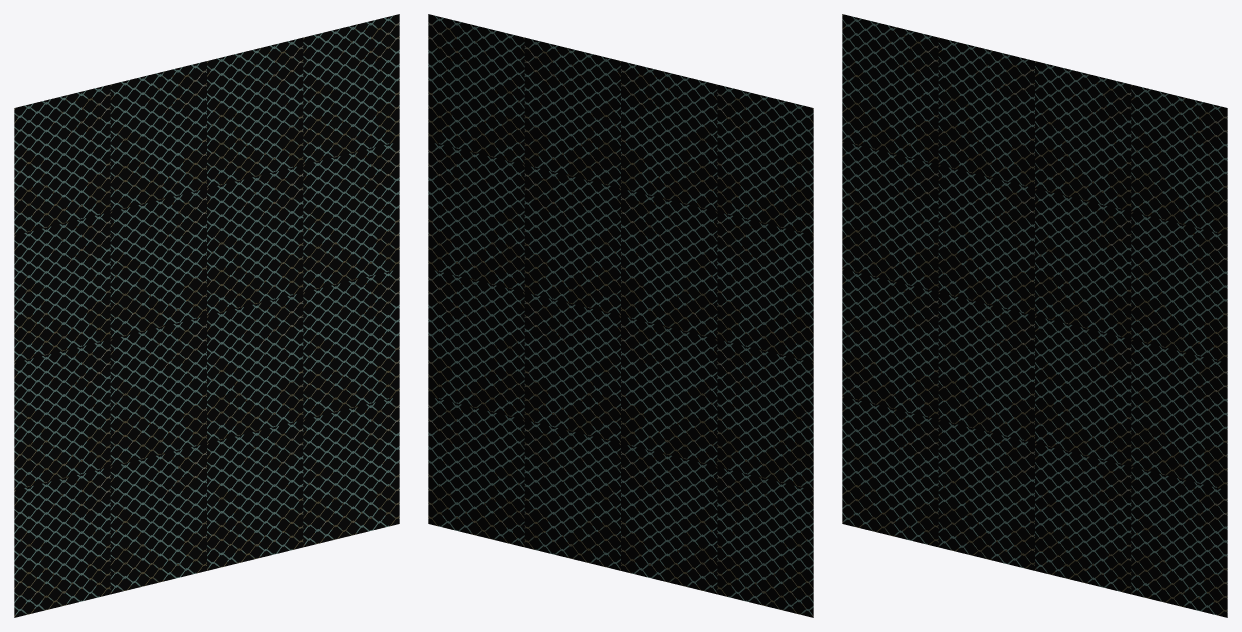
File: ChainlinkMerge.fbx
The picture shows the model from 3 angles, left to right: view 1: azimuth 30°, elevation 25°; view 2: azimuth 150°, elevation 25°; view 3: azimuth 330°, elevation 25°; orthographic projection.
Visible parts, largest first — view 1: modular_chainlink_fence_post; view 2: modular_chainlink_fence_post; view 3: modular_chainlink_fence_post.
Boxes of the visible parts, left/top/right/bottom form: modular_chainlink_fence_post: left=14, top=14, right=399, bottom=617; modular_chainlink_fence_post: left=428, top=14, right=813, bottom=617; modular_chainlink_fence_post: left=842, top=14, right=1227, bottom=617.
Bounding box in the file's own units: 186 × 235 × 2.14e-06.
Materials: 1 (1 with a texture image).
